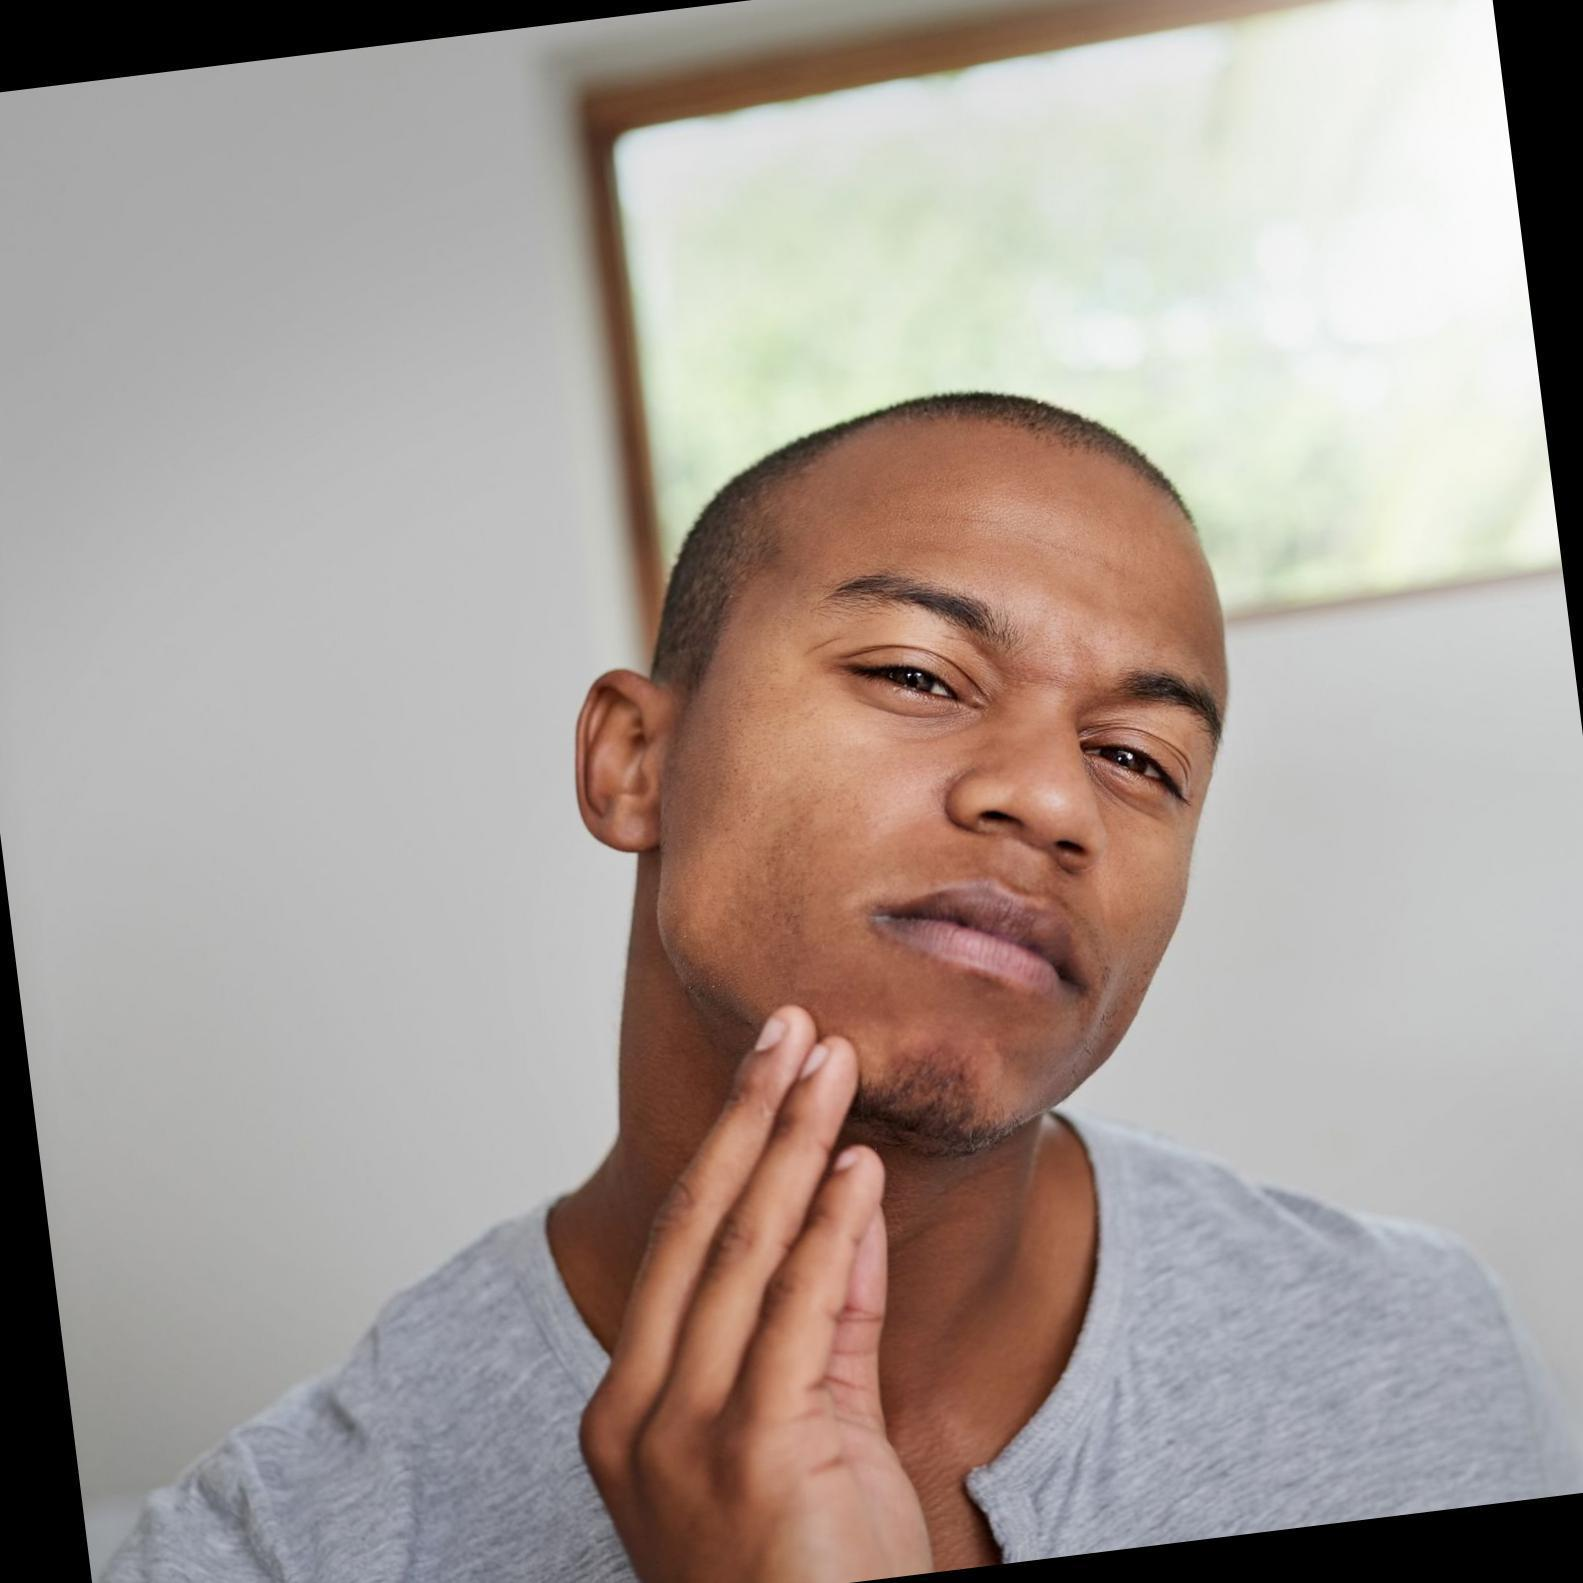Sober: (684, 431, 1199, 1081)
